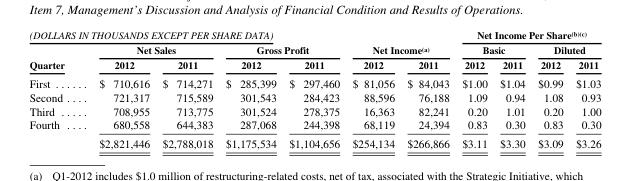table: (28, 28, 600, 149)
table column: (81, 28, 155, 149), (218, 28, 282, 149), (155, 28, 218, 149), (282, 28, 345, 149), (345, 28, 400, 149), (400, 28, 455, 149), (28, 28, 81, 149), (455, 28, 493, 149), (493, 28, 531, 149), (531, 28, 568, 149), (568, 28, 600, 149)
table column header: (28, 28, 600, 73)
table row: (28, 73, 600, 90), (28, 117, 600, 134), (28, 57, 600, 73), (28, 42, 600, 57), (28, 134, 600, 149), (28, 28, 600, 42), (28, 103, 600, 117), (28, 90, 600, 103)
table spanning cell: (28, 28, 455, 42), (81, 42, 218, 57), (455, 28, 600, 42), (218, 42, 345, 57), (345, 42, 455, 57), (28, 42, 81, 73), (455, 42, 531, 57), (531, 42, 600, 57)
